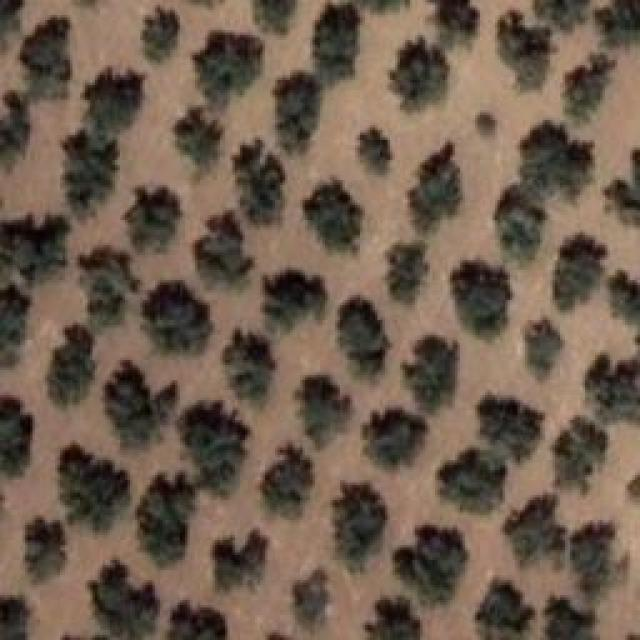Tree: (178, 403, 251, 496), (105, 360, 179, 446), (60, 445, 129, 532), (520, 120, 595, 197), (393, 525, 468, 602), (138, 473, 197, 566), (90, 560, 158, 640), (192, 33, 260, 110), (408, 143, 463, 234), (78, 248, 139, 330), (143, 283, 212, 354), (333, 483, 388, 571), (0, 215, 70, 283), (438, 448, 507, 514), (62, 130, 116, 214), (452, 260, 510, 338), (233, 140, 286, 225), (478, 395, 544, 462), (390, 38, 450, 111), (498, 10, 552, 89), (403, 335, 459, 411), (305, 180, 364, 252), (553, 233, 608, 310), (553, 418, 608, 494), (505, 495, 566, 563), (195, 212, 254, 282), (340, 297, 391, 377), (263, 270, 328, 332), (495, 185, 548, 261), (295, 375, 350, 447), (223, 330, 277, 403), (83, 65, 143, 130), (363, 408, 427, 468), (260, 445, 313, 517), (48, 325, 94, 407), (275, 73, 321, 155), (125, 187, 183, 252), (315, 3, 360, 84), (585, 355, 640, 420), (213, 530, 269, 591), (565, 55, 615, 122), (570, 523, 615, 596), (20, 17, 70, 82), (475, 580, 534, 632), (175, 108, 224, 170), (25, 517, 68, 582), (605, 150, 640, 225), (388, 242, 431, 302), (0, 397, 32, 475), (0, 285, 30, 367), (0, 90, 30, 167), (525, 318, 563, 378), (170, 602, 228, 640), (365, 600, 420, 640), (293, 570, 329, 631), (143, 7, 182, 62), (595, 0, 640, 45), (548, 598, 596, 640), (607, 270, 640, 322), (0, 595, 36, 640), (358, 128, 392, 175), (534, 0, 589, 29), (437, 0, 480, 34), (253, 0, 296, 33), (473, 110, 501, 140)
